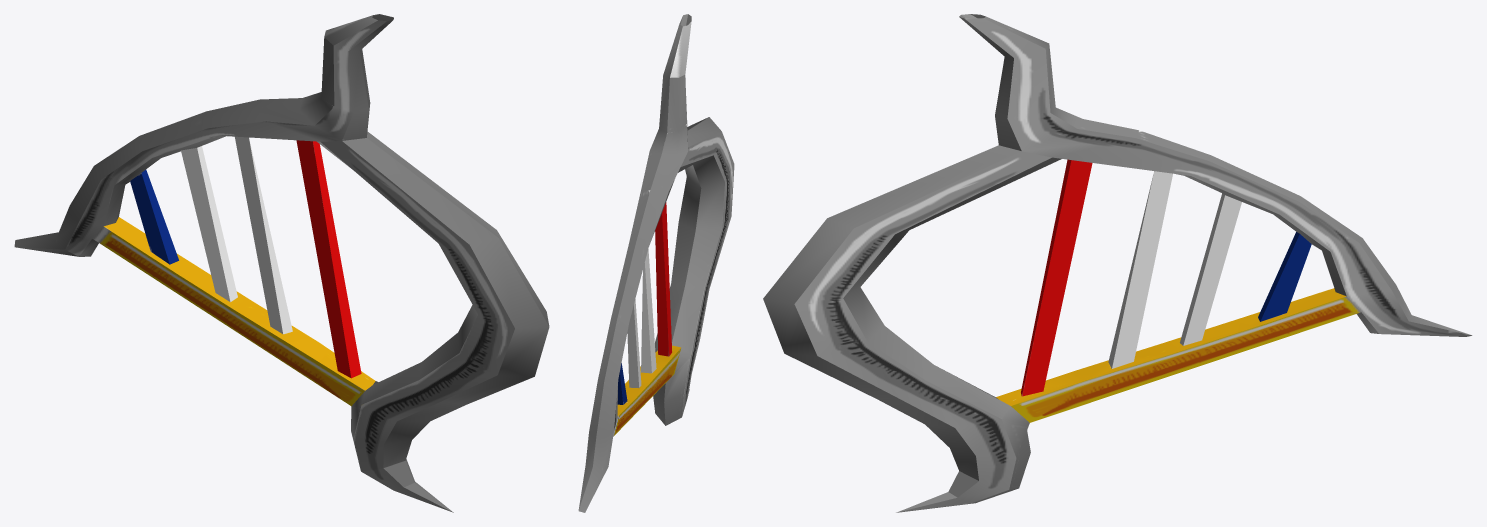
Rendered from Arpa1_000013.obj.
3 views of the same model, side by side, from view 1: azimuth 30°, elevation 25°; view 2: azimuth 150°, elevation 25°; view 3: azimuth 270°, elevation 25° (orthographic). The views are drawn at different scales.
Visible parts, largest first — view 1: a1_pCube7.001; view 2: a1_pCube7.001; view 3: a1_pCube7.001.
Boxes of the visible parts, bbox=[...] form: a1_pCube7.001: bbox=[14, 14, 549, 512]; a1_pCube7.001: bbox=[578, 14, 734, 512]; a1_pCube7.001: bbox=[763, 14, 1472, 512].
Size of the model in its own units: 4.79 by 10.92 by 14.58.
